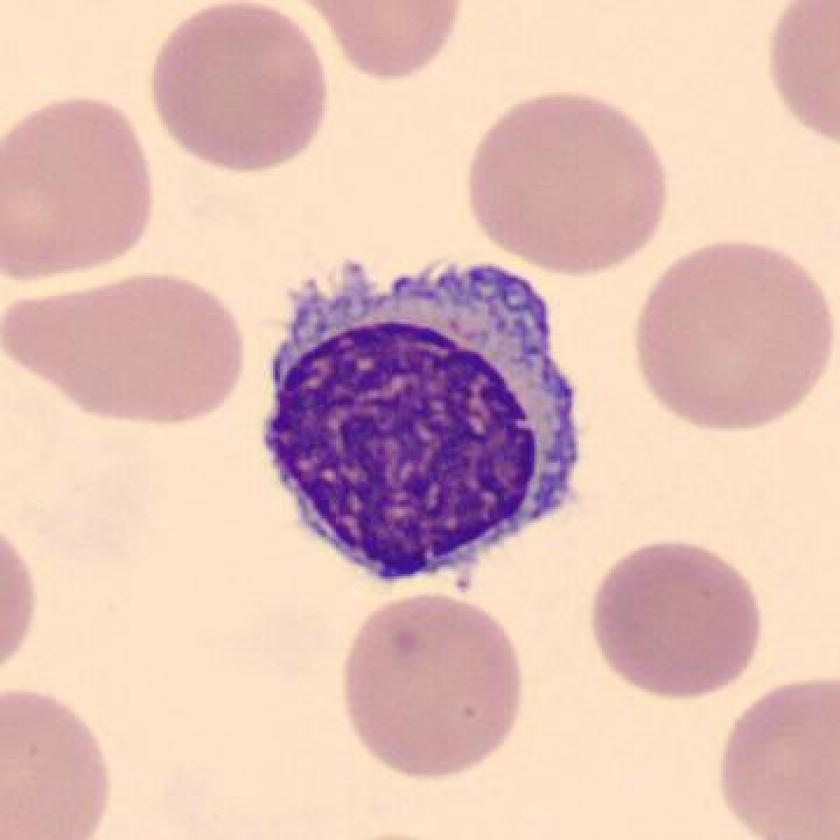lymphocyte: (246, 249, 601, 600)
